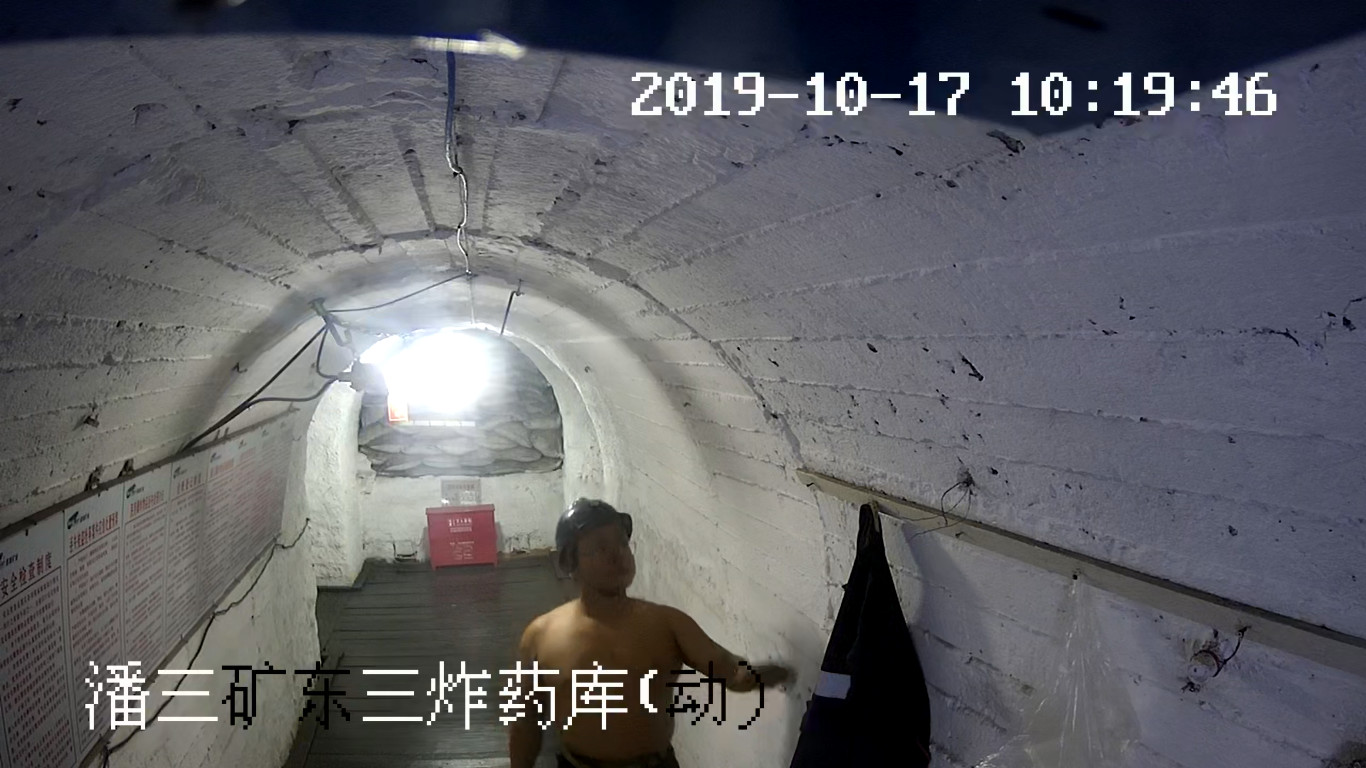helmet: (556, 497, 633, 573)
